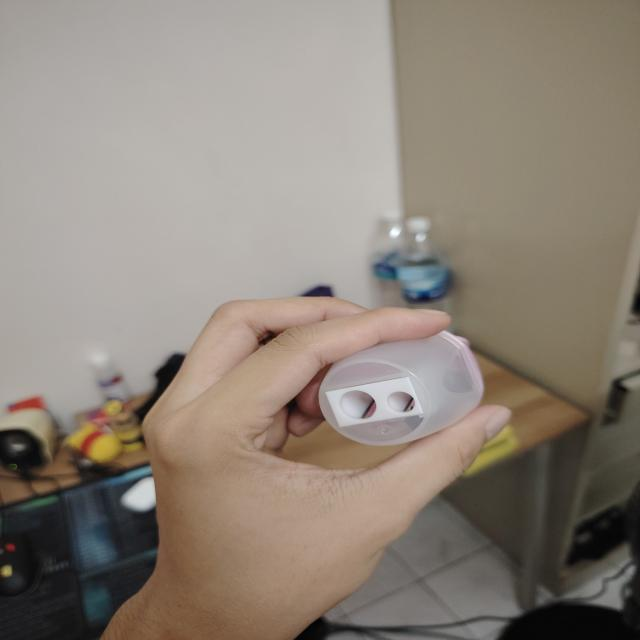sharpener: (318, 331, 483, 446)
